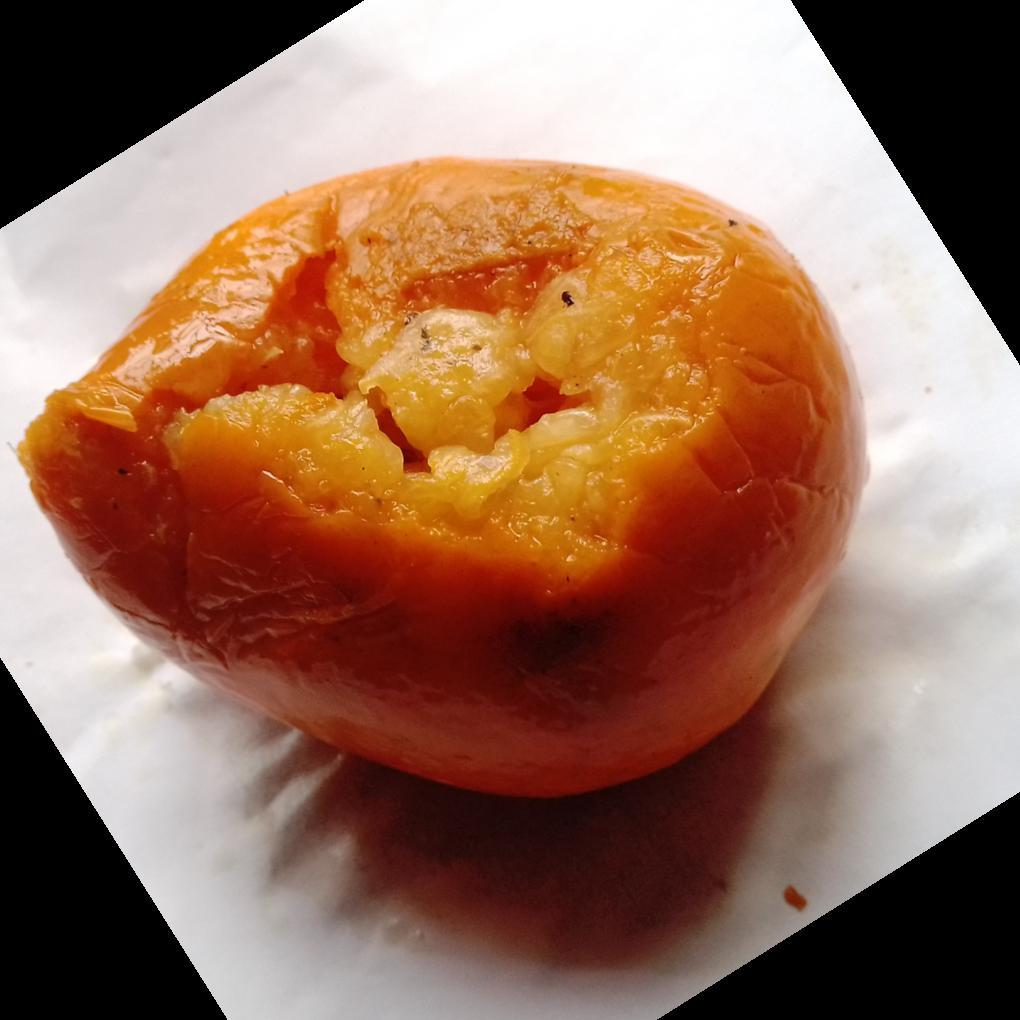FreshOrange: (16, 158, 869, 804)
